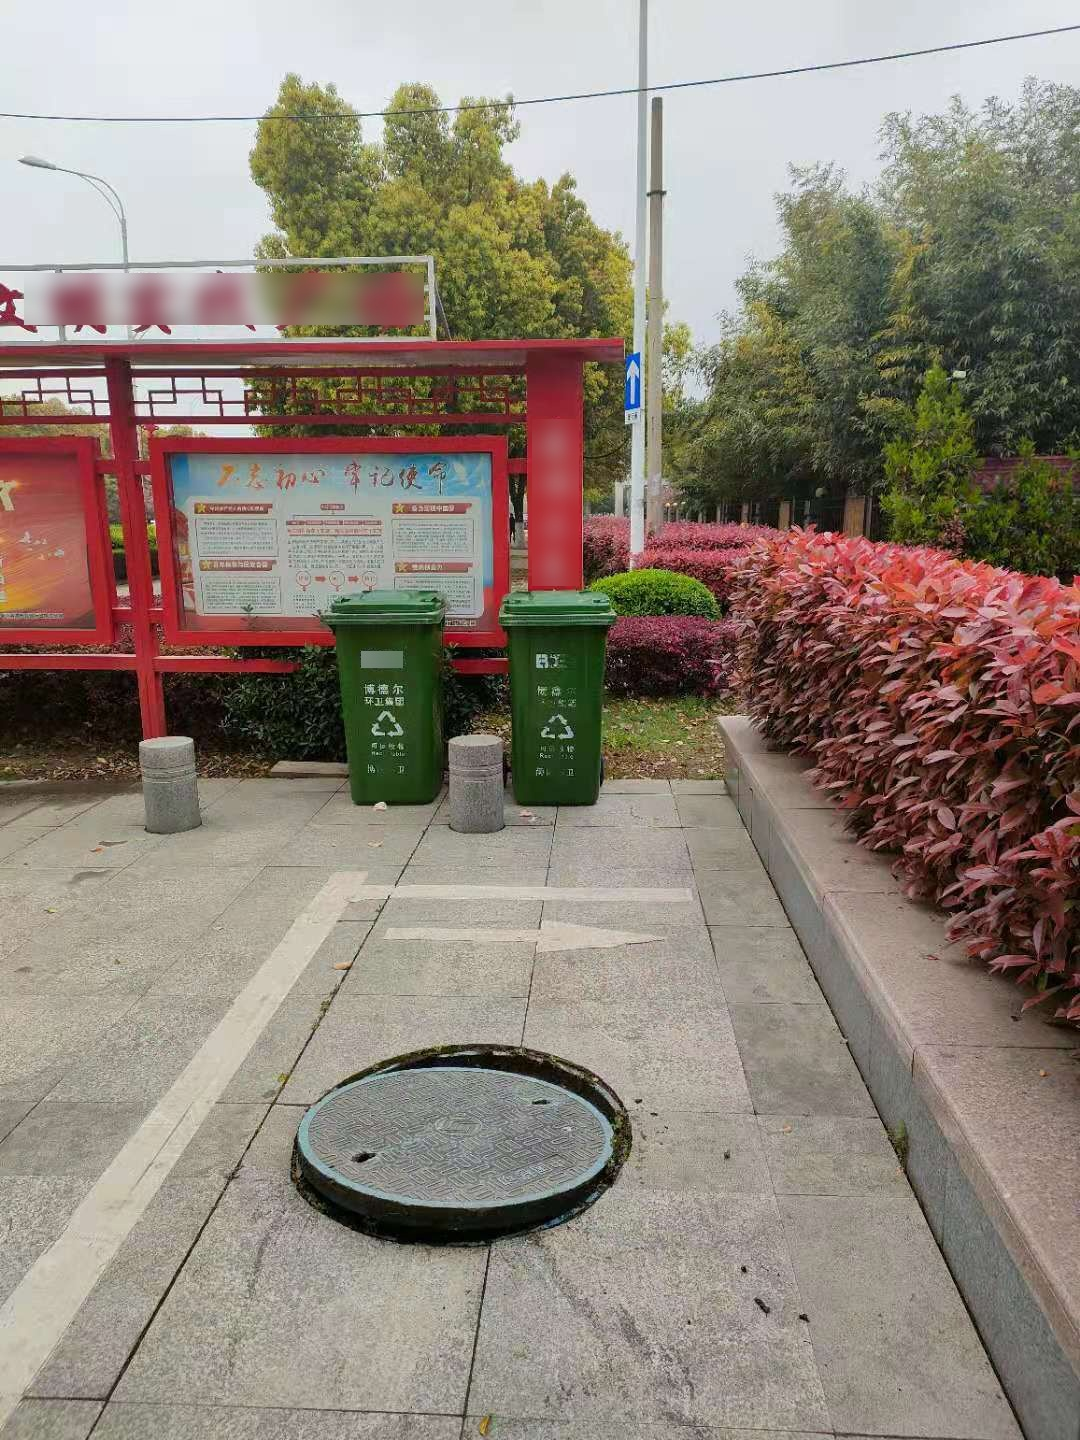uncovered: (290, 1043, 638, 1248)
